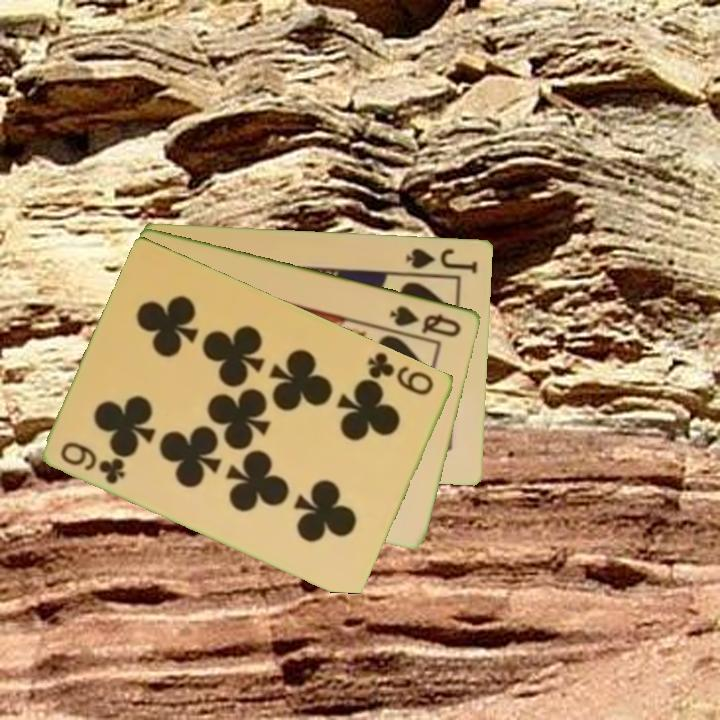9c: (364, 348, 438, 398), (57, 438, 128, 488)
Js: (403, 244, 481, 276)
Qs: (387, 301, 465, 340)
